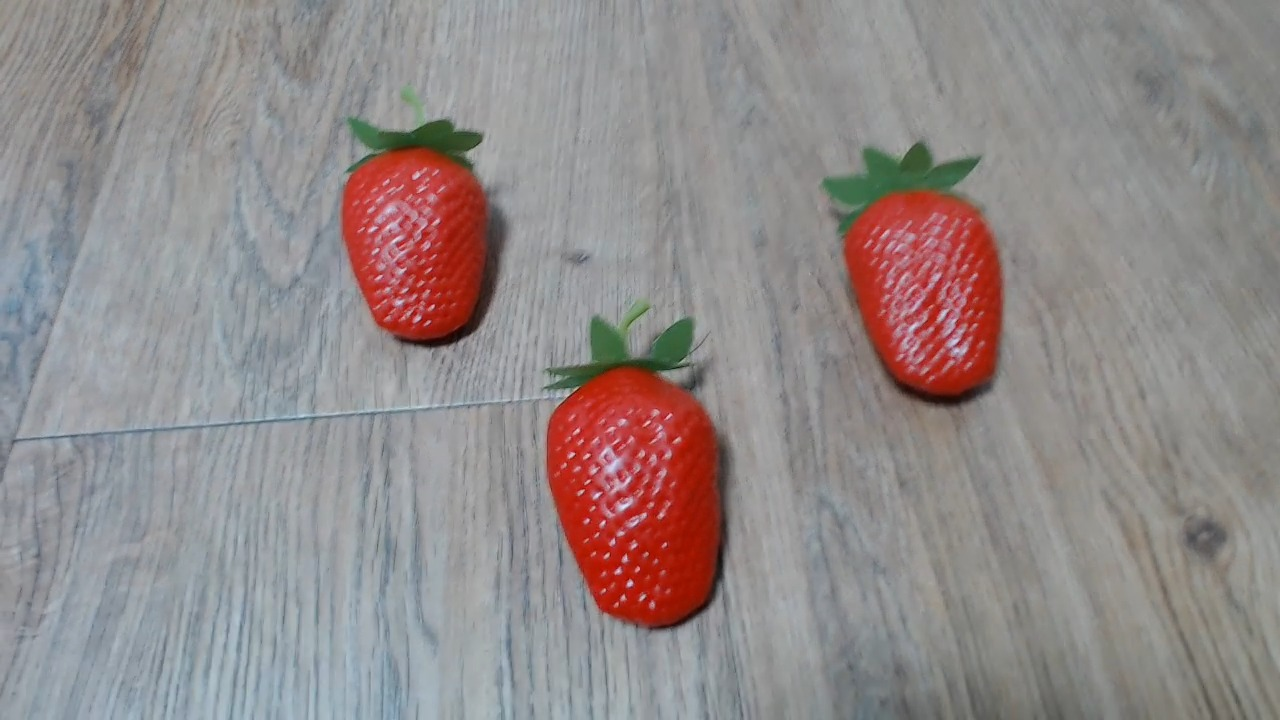strawberry: (543, 330, 721, 628), (838, 150, 1002, 397), (342, 111, 492, 340)
